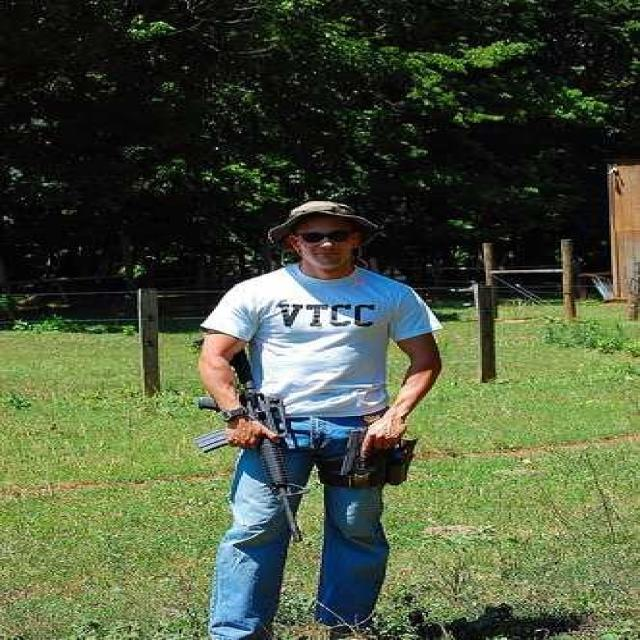Rifle: (181, 362, 325, 560)
